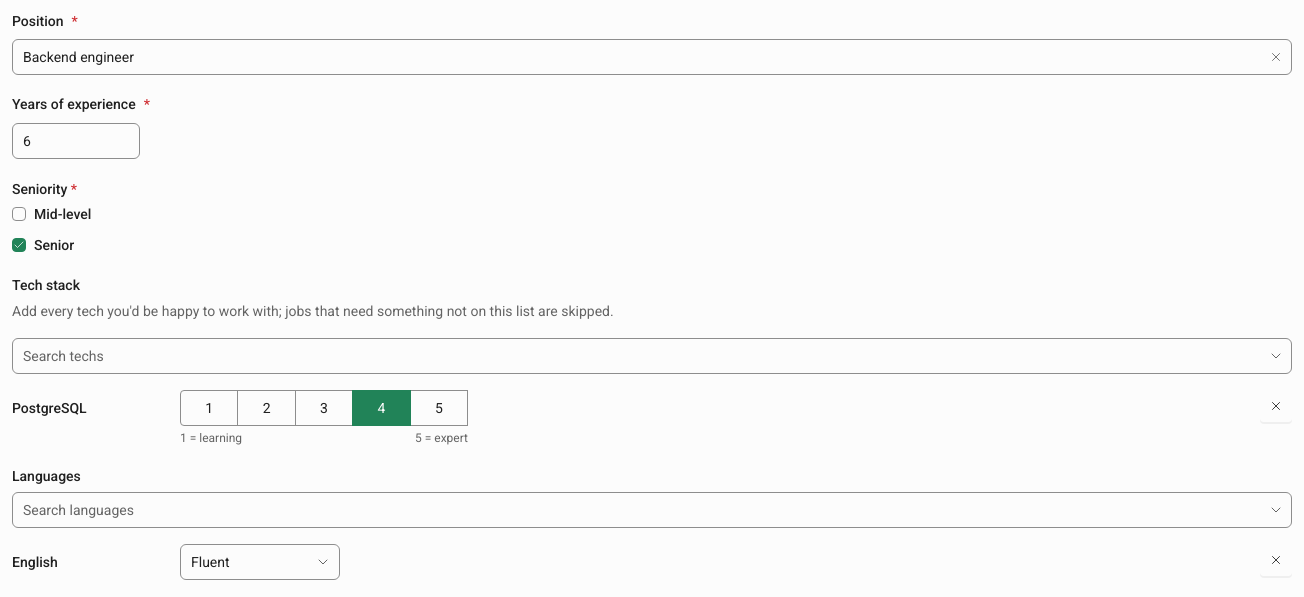
Test: JobForm › a picked tech is not offered again
Step 1. Type "r" into the dropdown named "Add a tech" → (638, 356), box [13,338,1264,374]
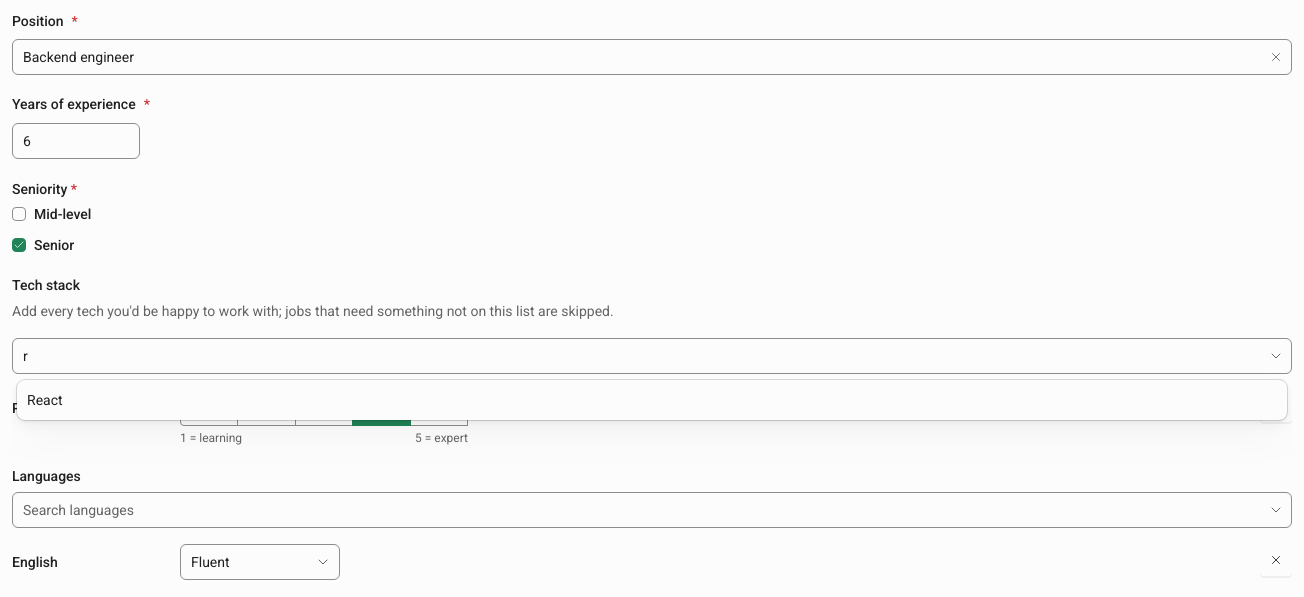
expect the option "React" is shown: met, box [27,392,63,408]
